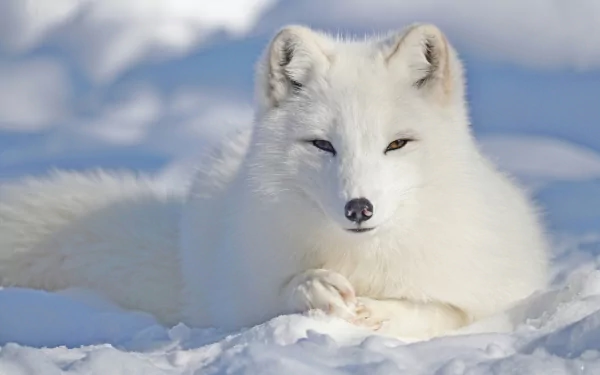arcticfox: (294, 70, 453, 261)
